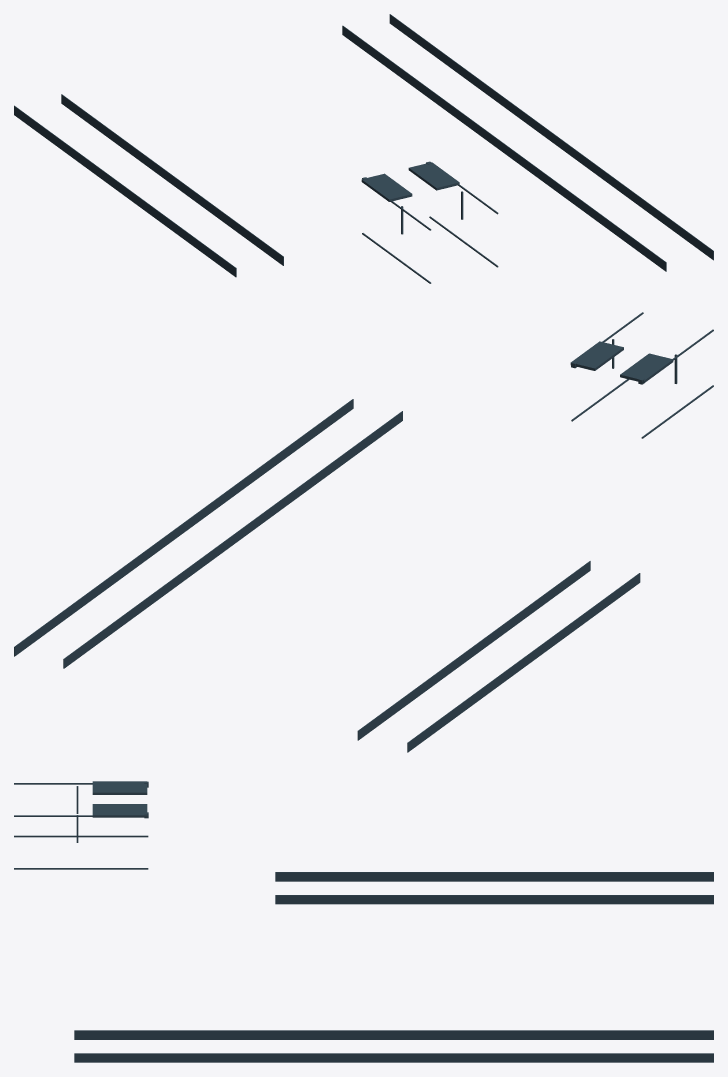
File: v02-03-04-steel.glb
The picture shows the model from 3 angles, top to bottom: view 1: azimuth 30°, elevation 25°; view 2: azimuth 150°, elevation 25°; view 3: azimuth 270°, elevation 25°; orthographic projection. The views are drawn at different scales.
Visible parts, largest first — view 1: v02-03-04-steel; view 2: v02-03-04-steel; view 3: v02-03-04-steel.
Part boxes in pixels (x1,y1,x2,y2): v02-03-04-steel: (14, 14, 713, 283); v02-03-04-steel: (14, 312, 713, 752); v02-03-04-steel: (14, 781, 713, 1062).
Size of the model in its own units: 46.98 by 15.65 by 76.6.
